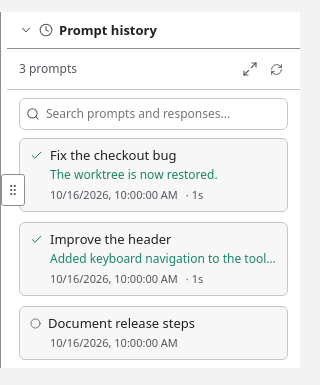
Scenario: prompt history search › filters full prompts and responses case-insensitively without requesting history again, and clears the filter
Expected: the text "Fix the checkout bug" is shown, [50,147,177,163]
Type "  CHECKOUT  " into the search field named "Search prompt history".
click(164, 114); type("  CHECKOUT  ")  # box [46,103,281,125]
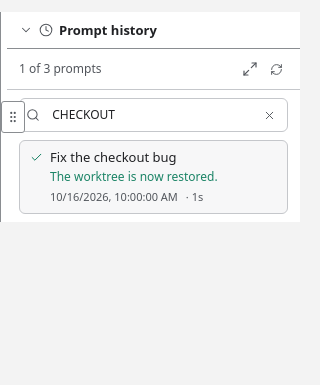
Expected: the text "Fix the checkout bug" is shown, [50,149,177,165]
Expected: the button "Improve the header" is gone
Expected: the text "1 of 3 prompts" is shown, [19,61,102,77]
Replace the text in the search field named "Search prompt history" with "keyboard navigation" at {"x": 148, "y": 115}, box [46,104,251,126]
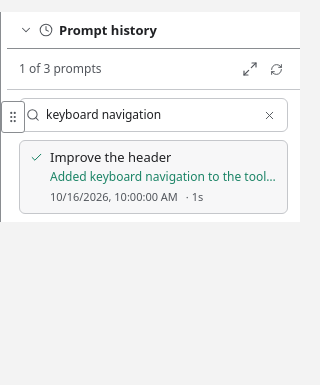
Expected: the text "Improve the header" is shown, [50,149,171,165]
Expected: the button "Fix the checkout bug" is gone
Click the button named "Clear prompt history search".
click(269, 115)  # box [257,103,281,127]
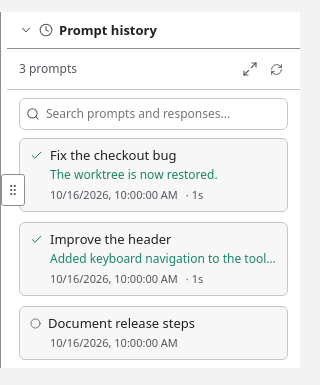
Expected: the text "3 prompts" is shown, [19,61,77,77]
Expected: the search field named "Search prompt history" is empty, [46,103,281,125]
Expected: the number of buttons titled "Open full prompt and response" is 3, [19,138,288,212]; [19,222,288,296]; [19,306,288,360]
